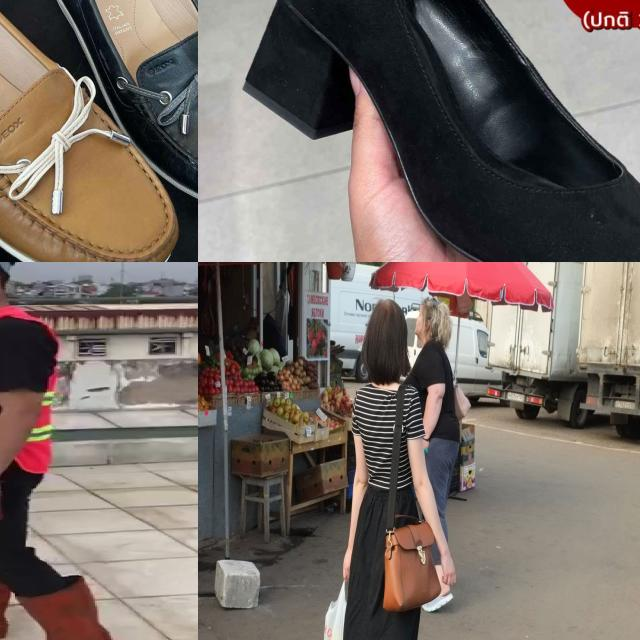Sandals: (214, 0, 640, 262), (0, 0, 198, 262), (30, 0, 198, 215)
boots: (6, 581, 120, 640)
vest: (0, 311, 54, 475)
